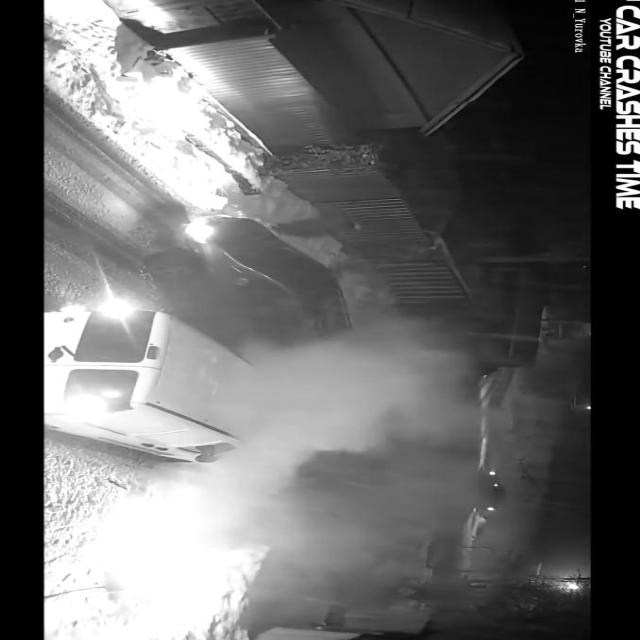accident: (48, 210, 376, 470)
